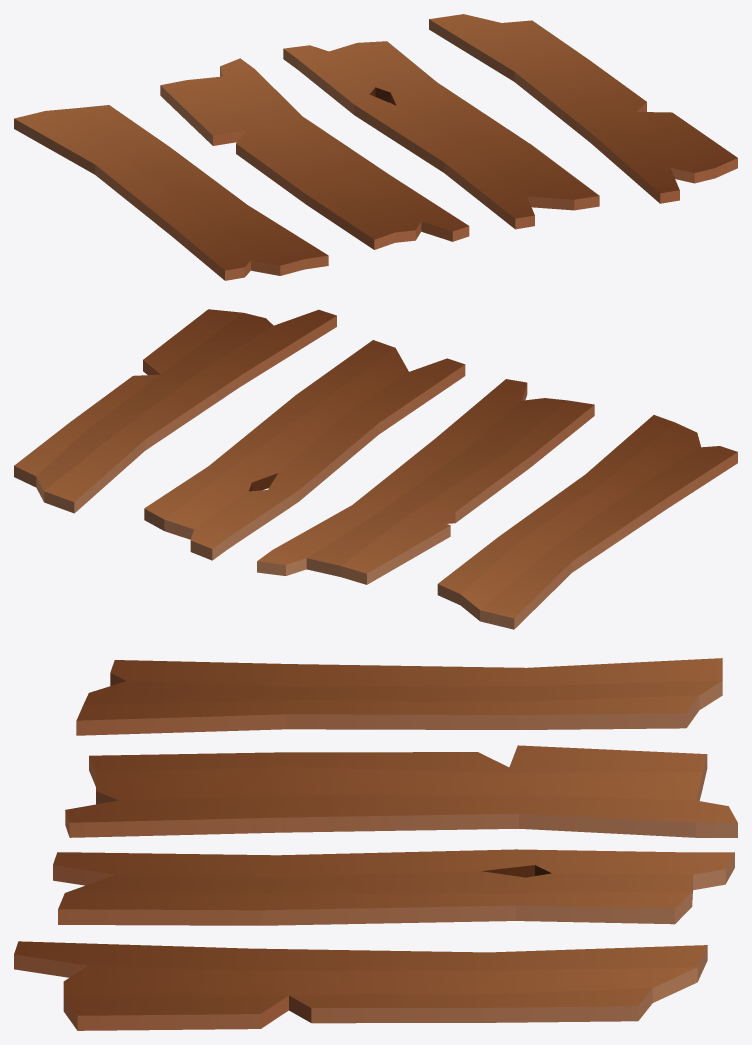
The model's file is Planks.glb.
3 renders of one model, top to bottom at view 1: azimuth 30°, elevation 25°; view 2: azimuth 150°, elevation 25°; view 3: azimuth 270°, elevation 25°, orthographic. The views are drawn at different scales.
Visible parts, largest first — view 1: Planks.002, Planks.001, Planks, Planks.003; view 2: Planks.002, Planks.001, Planks, Planks.003; view 3: Planks.001, Planks.003, Planks.002, Planks.
Boxes of the visible parts, left/top/right/bottom form: Planks.002: left=283, top=41, right=599, bottom=229; Planks.001: left=160, top=58, right=469, bottom=249; Planks: left=14, top=105, right=328, bottom=280; Planks.003: left=429, top=14, right=737, bottom=203; Planks.002: left=144, top=340, right=465, bottom=560; Planks.001: left=257, top=379, right=594, bottom=584; Planks: left=437, top=415, right=737, bottom=629; Planks.003: left=14, top=309, right=336, bottom=513; Planks.001: left=65, top=745, right=737, bottom=837; Planks.003: left=14, top=941, right=707, bottom=1030; Planks.002: left=53, top=849, right=734, bottom=925; Planks: left=76, top=658, right=722, bottom=735.
Size of the model in its own units: 2.22 by 0.0577 by 1.9.
1 material, 1 textured.
